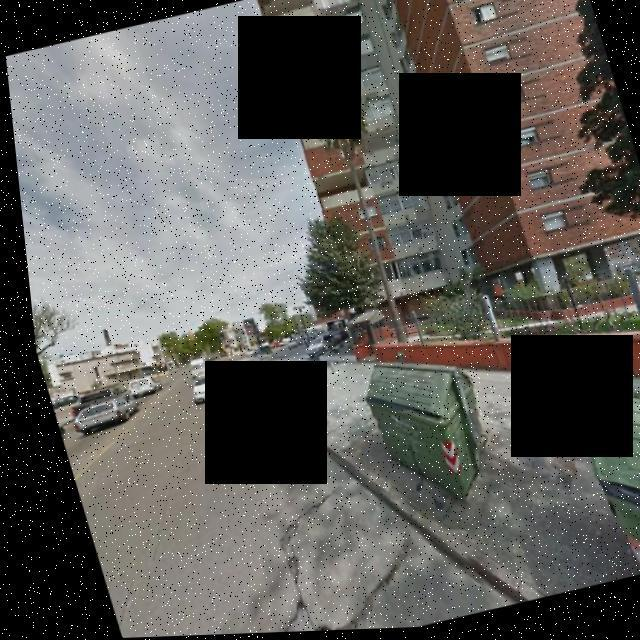bin: (331, 338, 505, 531), (538, 355, 640, 586)
